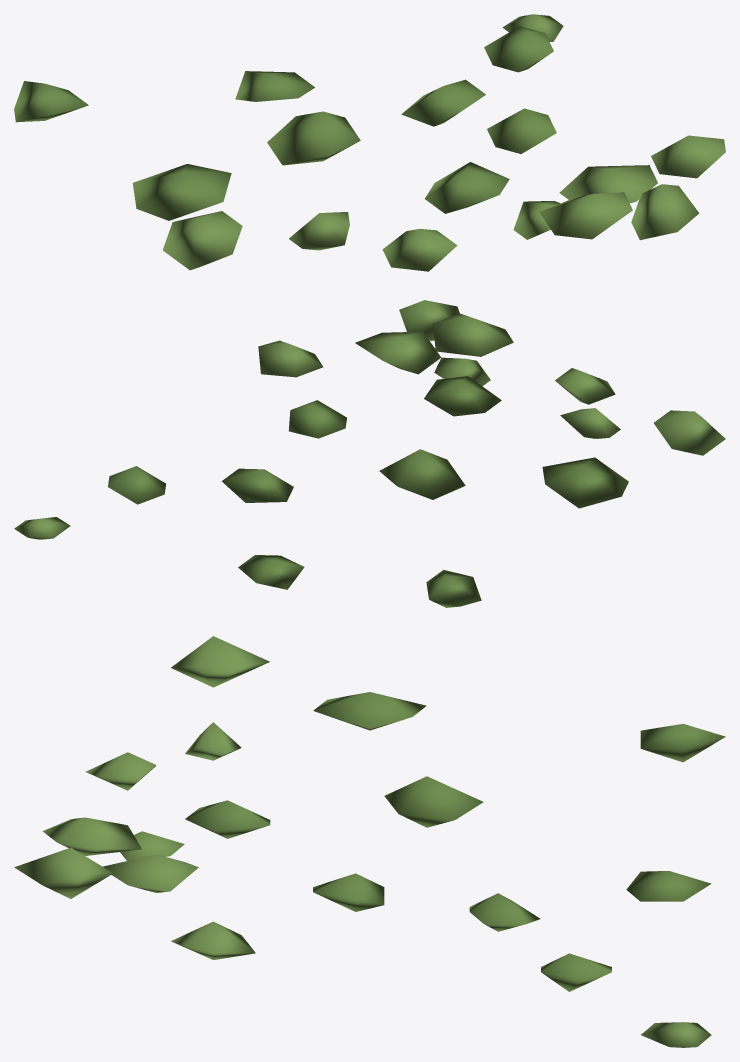
File: canopy-2--1-13.glb
3 views of the same model, one above another, from view 1: azimuth 30°, elevation 25°; view 2: azimuth 150°, elevation 25°; view 3: azimuth 270°, elevation 25° (orthographic). The views are drawn at different scales.
Size of the model in its own units: 128 by 25 by 125.
Materials: 1 (1 with a texture image).
